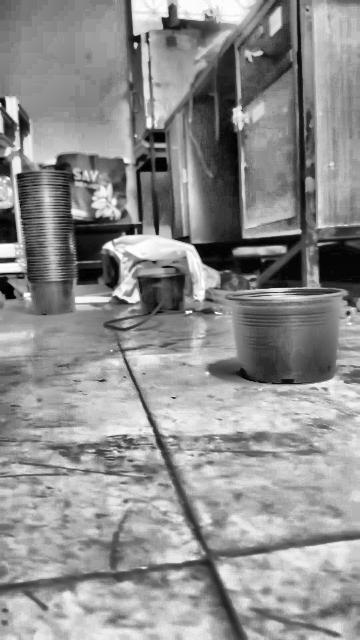pot: (226, 288, 345, 384), (135, 270, 185, 314)
